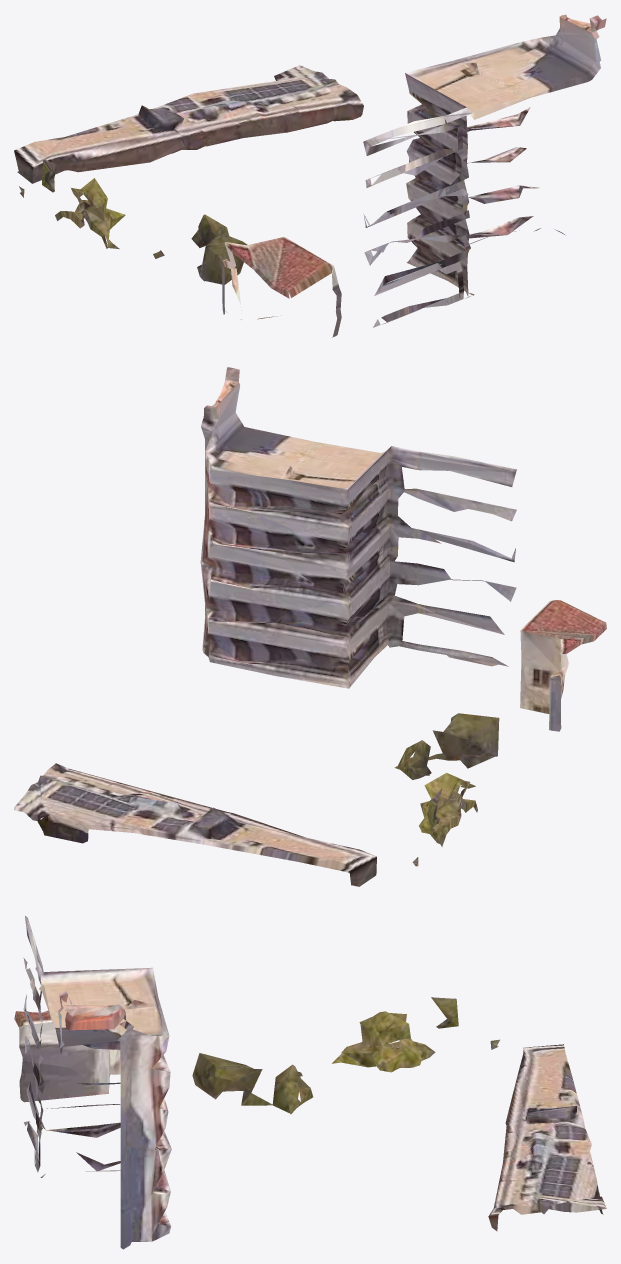
3 renders of one model, top to bottom at view 1: azimuth 30°, elevation 25°; view 2: azimuth 150°, elevation 25°; view 3: azimuth 270°, elevation 25°, orthographic. The views are drawn at different scales.
Parts seen in each view (by area): view 1: Mesh_0; view 2: Mesh_0; view 3: Mesh_0.
Boxes of the visible parts, bbox=[...] form: Mesh_0: bbox=[14, 14, 606, 337]; Mesh_0: bbox=[14, 367, 606, 886]; Mesh_0: bbox=[14, 916, 606, 1249].
Bounding box in the file's own units: 33.31 × 20.09 × 41.36.
1 material, 1 textured.
